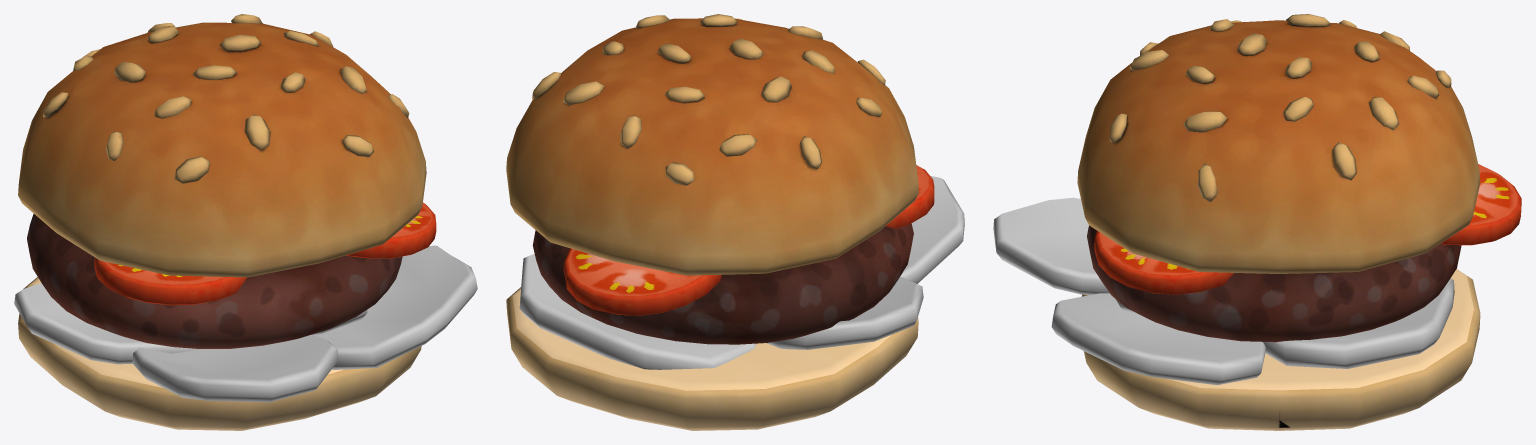
Rendered from m_recipe_lettuce_tomato_burger_01.fbx.
3 renders of one model, left to right at view 1: azimuth 30°, elevation 25°; view 2: azimuth 150°, elevation 25°; view 3: azimuth 270°, elevation 25°, orthographic.
Visible parts, largest first — view 1: m_recipe_lettuce_tomato_burger_01_2, m_recipe_lettuce_tomato_burger_01_3, m_recipe_lettuce_tomato_burger_01_1, m_recipe_lettuce_tomato_burger_01_0; view 2: m_recipe_lettuce_tomato_burger_01_2, m_recipe_lettuce_tomato_burger_01_1, m_recipe_lettuce_tomato_burger_01_3, m_recipe_lettuce_tomato_burger_01_0; view 3: m_recipe_lettuce_tomato_burger_01_2, m_recipe_lettuce_tomato_burger_01_3, m_recipe_lettuce_tomato_burger_01_1, m_recipe_lettuce_tomato_burger_01_0.
Boxes of the visible parts, x1,y1,x2,y2 form: m_recipe_lettuce_tomato_burger_01_2: (18, 14, 426, 430); m_recipe_lettuce_tomato_burger_01_3: (14, 245, 477, 402); m_recipe_lettuce_tomato_burger_01_1: (27, 214, 402, 348); m_recipe_lettuce_tomato_burger_01_0: (94, 202, 436, 305); m_recipe_lettuce_tomato_burger_01_2: (506, 14, 918, 430); m_recipe_lettuce_tomato_burger_01_1: (532, 223, 913, 344); m_recipe_lettuce_tomato_burger_01_3: (519, 176, 964, 369); m_recipe_lettuce_tomato_burger_01_0: (563, 165, 934, 315); m_recipe_lettuce_tomato_burger_01_2: (1077, 14, 1480, 430); m_recipe_lettuce_tomato_burger_01_3: (993, 197, 1454, 385); m_recipe_lettuce_tomato_burger_01_1: (1087, 225, 1461, 342); m_recipe_lettuce_tomato_burger_01_0: (1094, 164, 1521, 294).
Bounding box in the file's own units: 0.7104 × 0.5349 × 0.8185.
